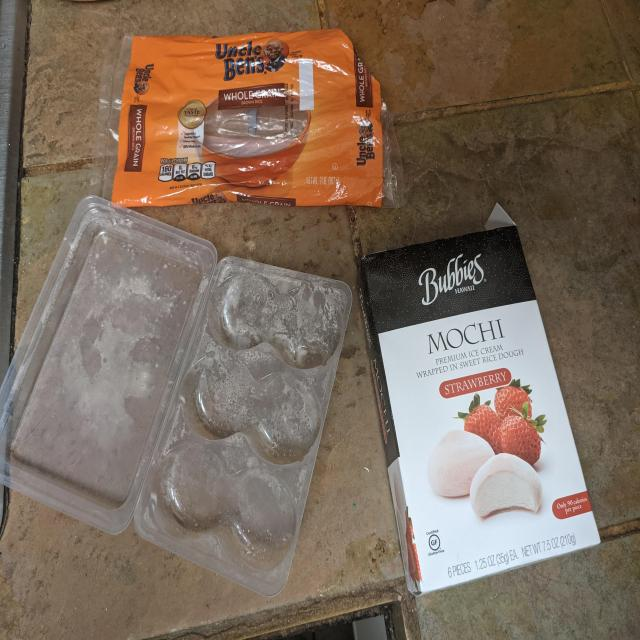litter: (80, 189, 353, 596), (351, 199, 603, 595), (93, 28, 407, 207)
